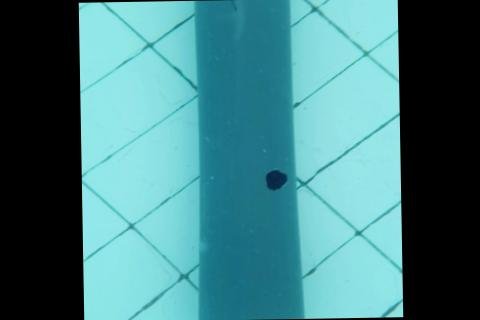kebocoran: (261, 169, 289, 191)
